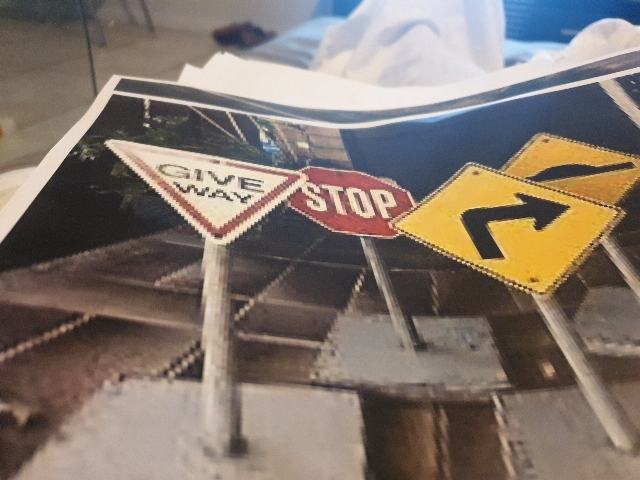giveway: (126, 139, 287, 229)
right: (426, 172, 591, 283)
stop: (303, 169, 403, 240)
